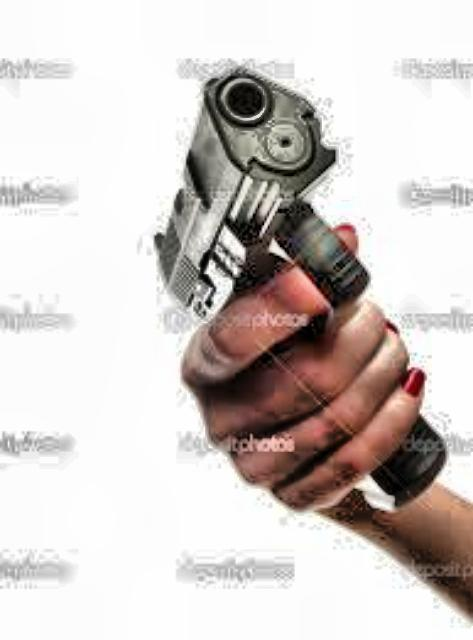pistol: (152, 52, 442, 514)
